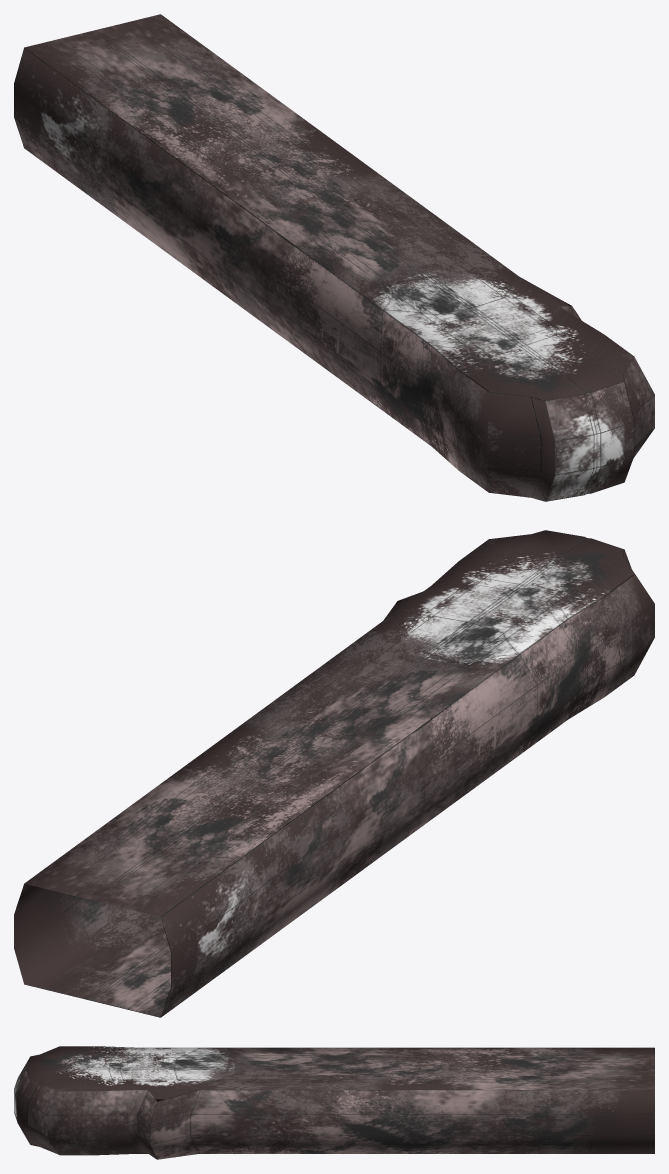
File: ExportedBlenderFBXFile.fbx
The picture shows the model from 3 angles, top to bottom: view 1: azimuth 30°, elevation 25°; view 2: azimuth 150°, elevation 25°; view 3: azimuth 270°, elevation 25°; orthographic projection. The views are drawn at different scales.
Parts seen in each view (by area): view 1: pCube1; view 2: pCube1; view 3: pCube1.
Boxes of the visible parts, left/top/right/bottom form: pCube1: left=14, top=14, right=654, bottom=501; pCube1: left=14, top=530, right=654, bottom=1017; pCube1: left=14, top=1046, right=654, bottom=1159.
Bounding box in the file's own units: 4.63 × 2.4 × 21.8.
